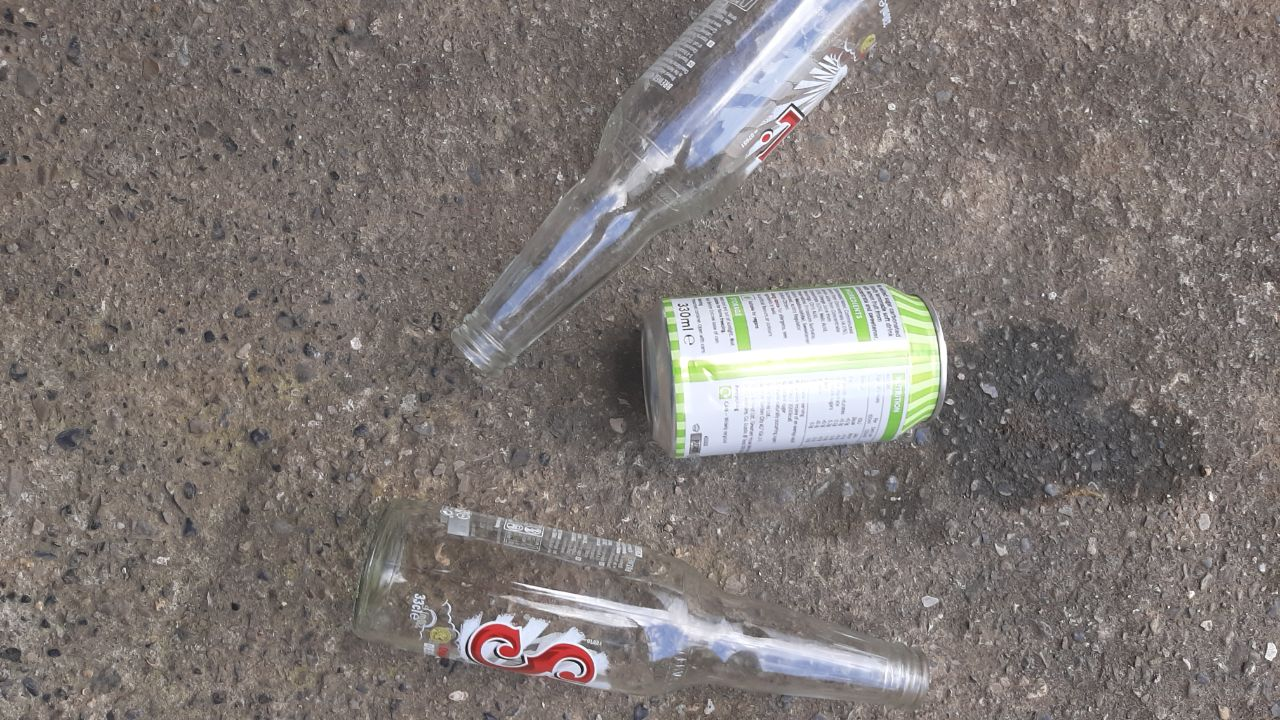Can: (632, 277, 962, 467)
